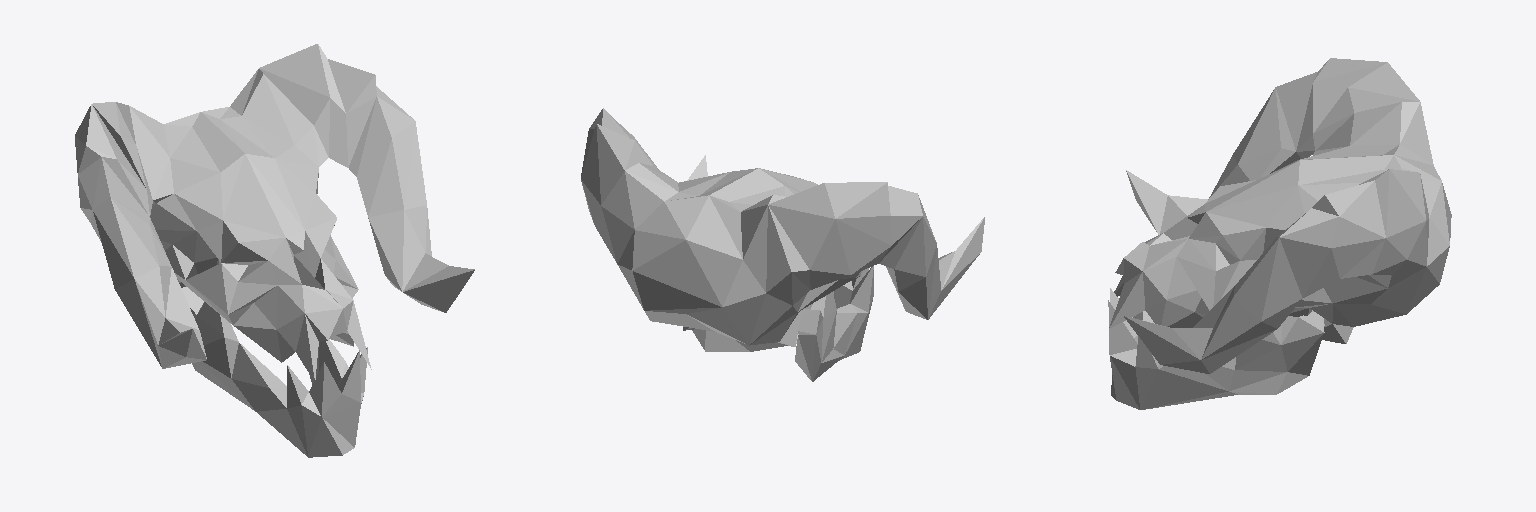
Rendered from Skull_687.obj.
3 renders of one model, left to right at view 1: azimuth 30°, elevation 25°; view 2: azimuth 150°, elevation 25°; view 3: azimuth 270°, elevation 25°, orthographic.
Parts seen in each view (by area): view 1: DeathClawSKULL; view 2: DeathClawSKULL; view 3: DeathClawSKULL.
Boxes of the visible parts, x1=… form: DeathClawSKULL: x1=75, y1=44, x2=474, y2=457; DeathClawSKULL: x1=581, y1=108, x2=984, y2=381; DeathClawSKULL: x1=1108, y1=58, x2=1451, y2=409.
Size of the model in its own units: 2.52 by 2.18 by 2.35.